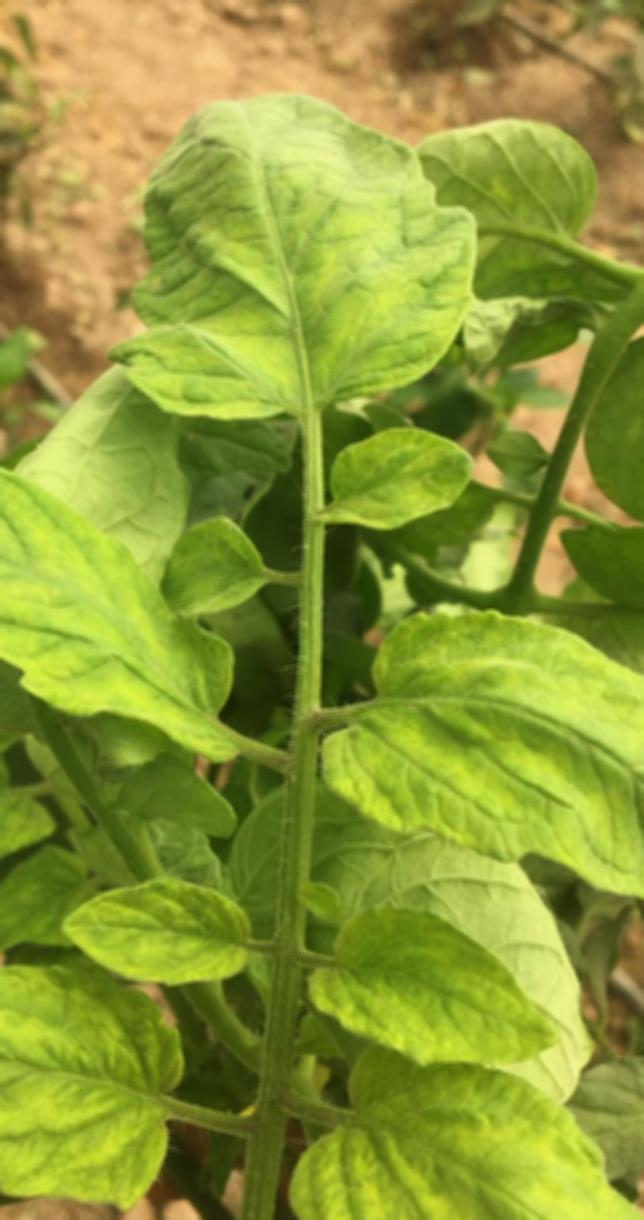Tomato leaf yellow virus: (108, 72, 484, 434), (356, 607, 644, 943), (266, 851, 606, 1086), (0, 406, 223, 732), (0, 939, 215, 1220)
